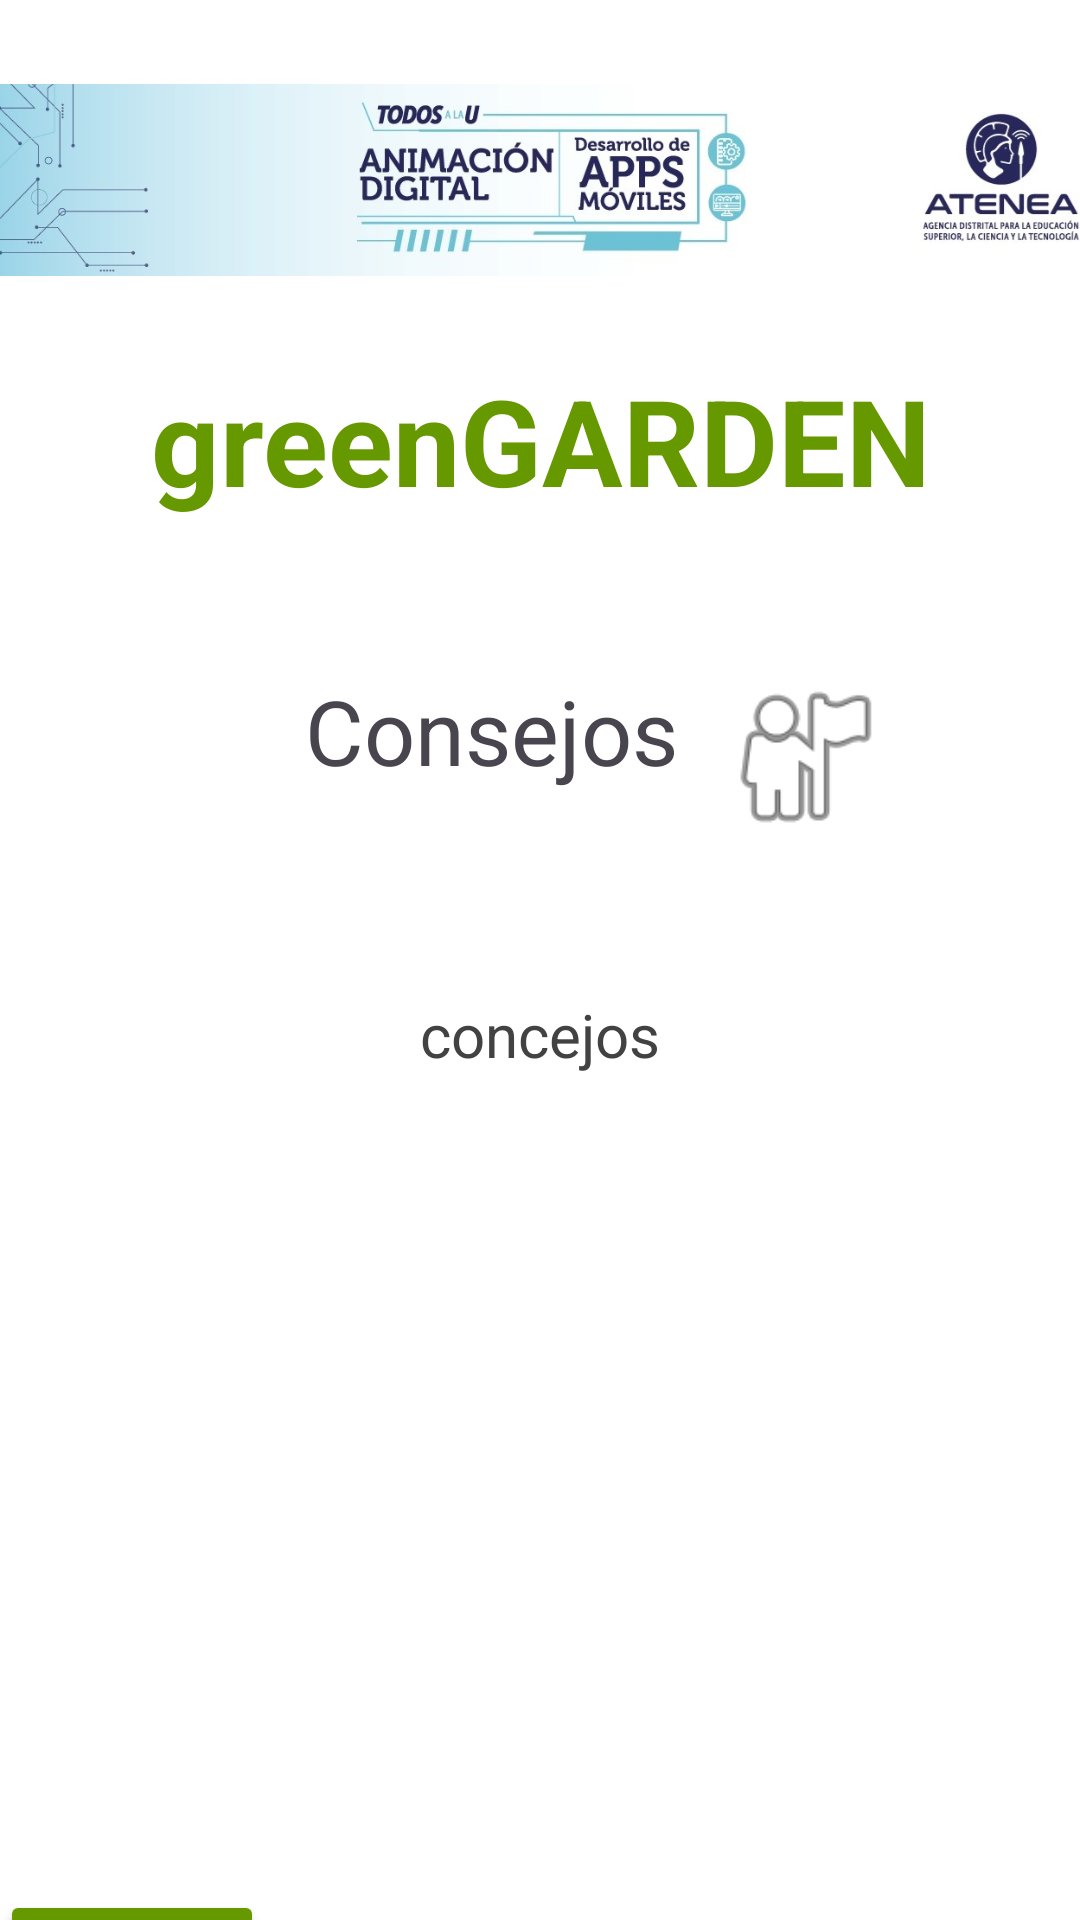

Screen size 1080 × 1920. Icon name, then its center in pixels as point (x, y):
myplaces: point (805, 757)
